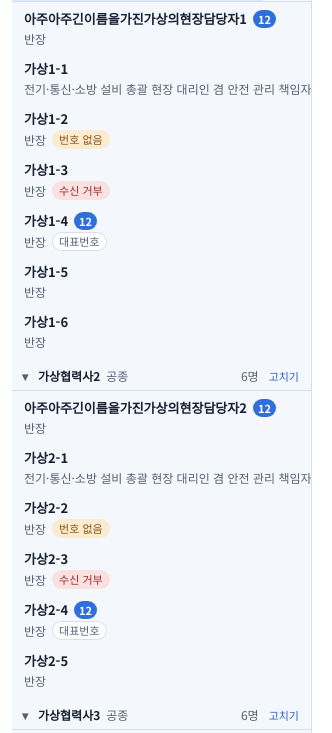
Test case: address book › fifty people across eight companies stay inside the list (no overflow)
(page scrolled)
묶음은 접을 수 있다.
Click the button with aria-label "가상협력사2 6명" at (137, 376), box [12,361,263,390]
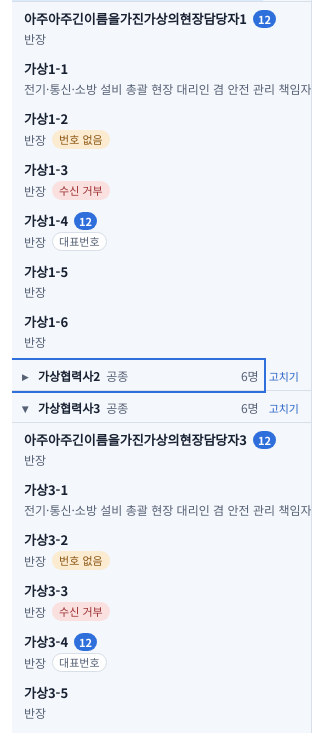
Now no the list item "아주아주긴이름을가진가상의현장담당자2 12 반장" are shown
